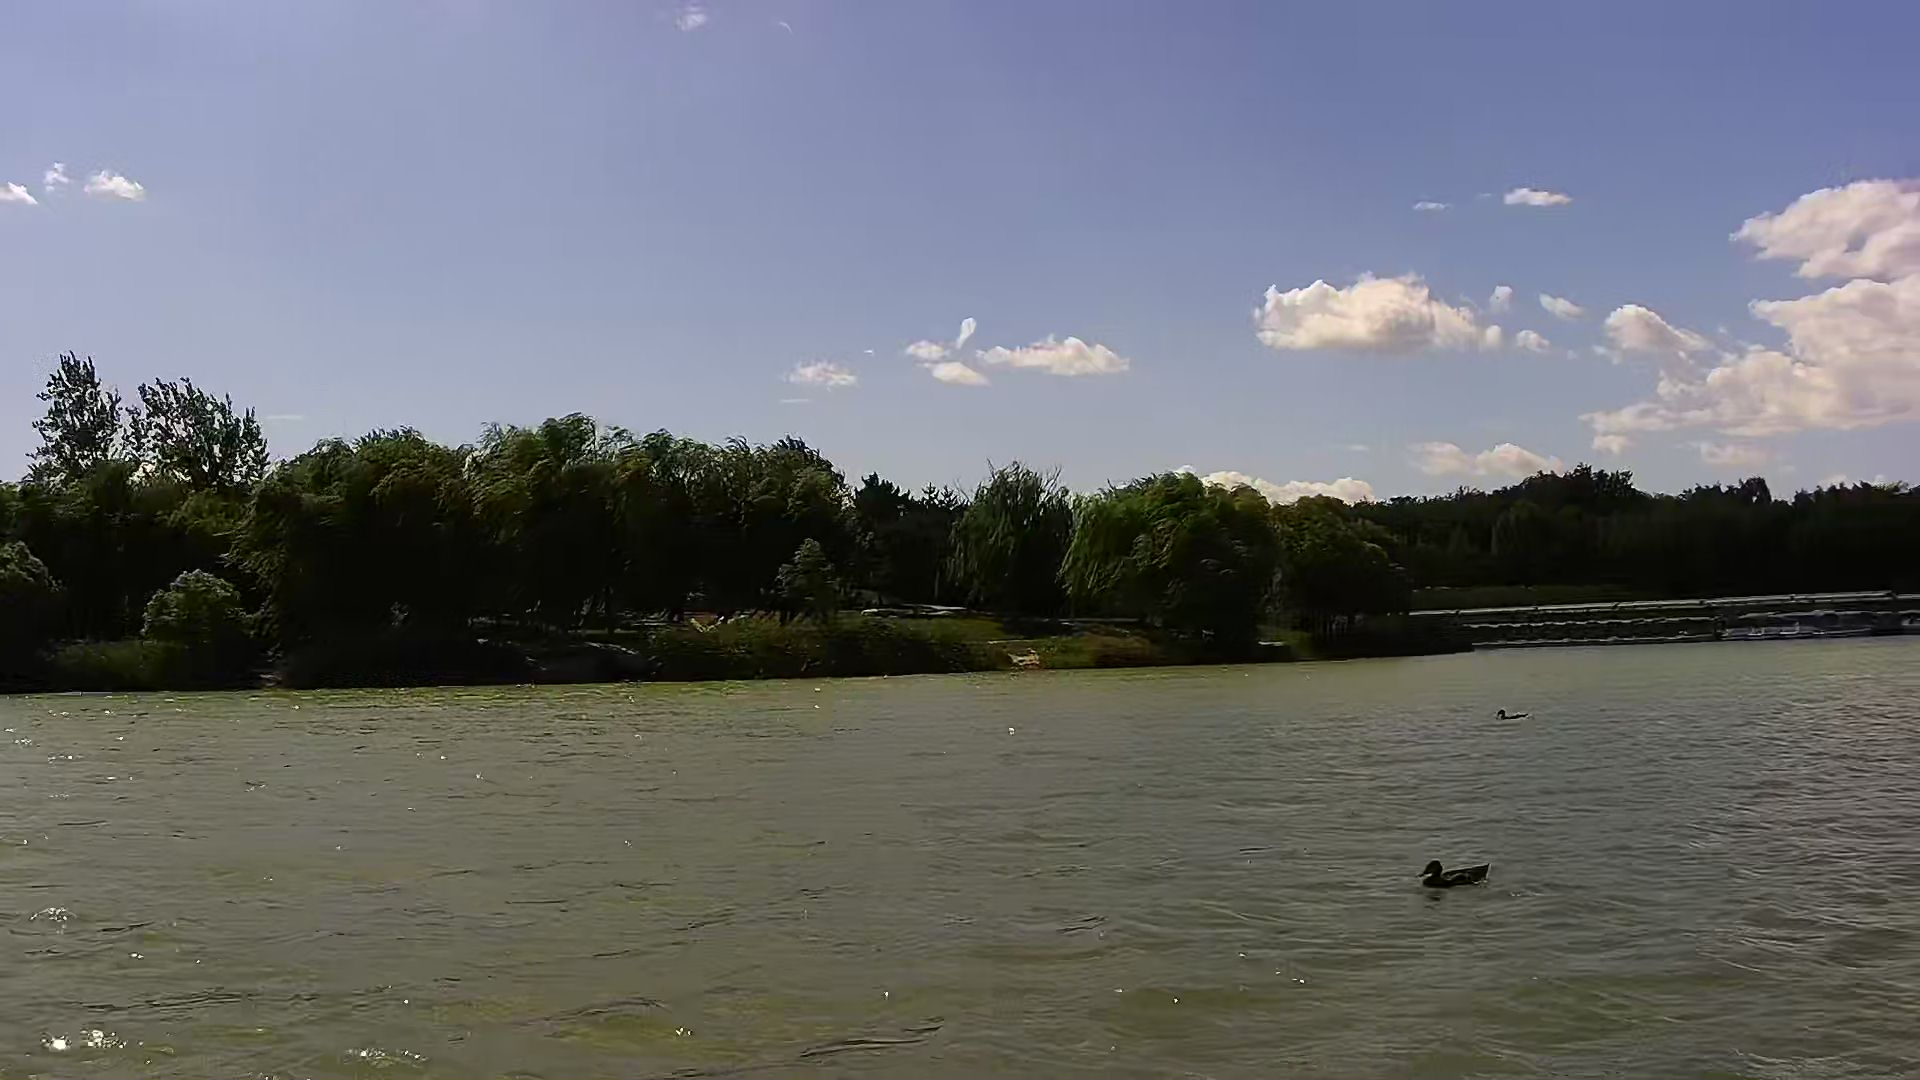animal: (1423, 858, 1487, 889), (1493, 708, 1524, 723)
harbor: (1473, 597, 1907, 645)
rock: (1011, 653, 1047, 669)
